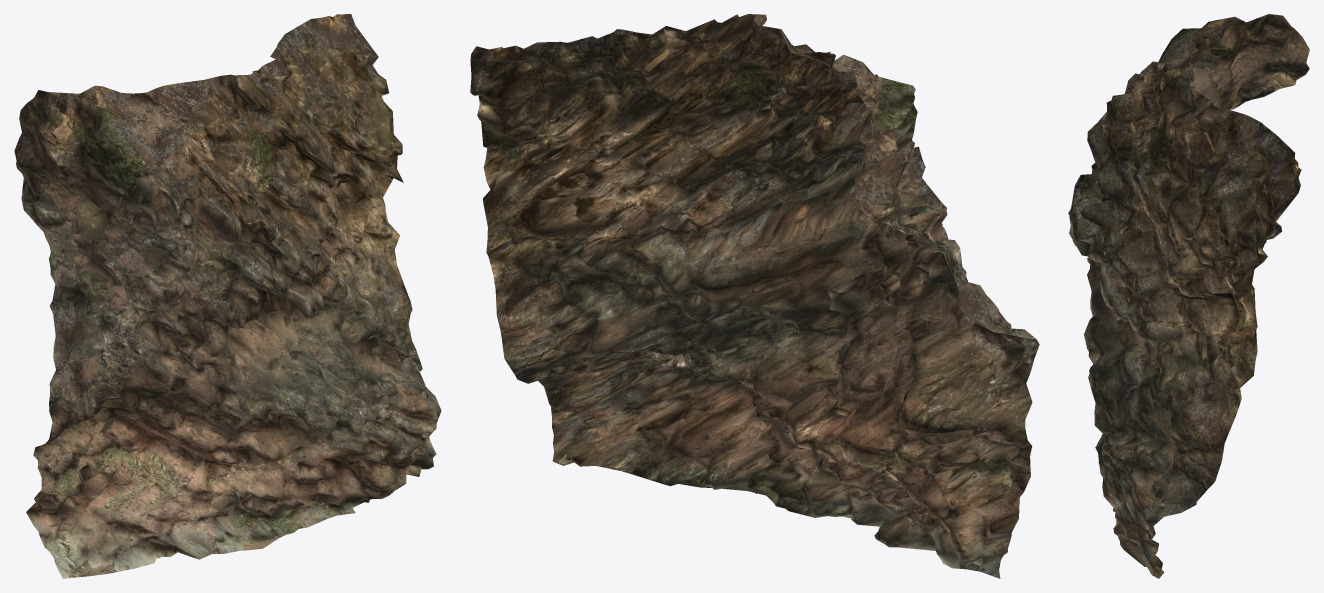
File: mountainside.glb
The picture shows the model from 3 angles, left to right: view 1: azimuth 30°, elevation 25°; view 2: azimuth 150°, elevation 25°; view 3: azimuth 270°, elevation 25°; orthographic projection. The views are drawn at different scales.
Parts seen in each view (by area): view 1: mountainside; view 2: mountainside; view 3: mountainside.
Boxes of the visible parts, x1,y1,x2,y2 form: mountainside: (14,14,441,578); mountainside: (470,14,1039,578); mountainside: (1068,14,1309,578).
Size of the model in its own units: 10.21 by 10.52 by 5.25.
Materials: 1 (1 with a texture image).
